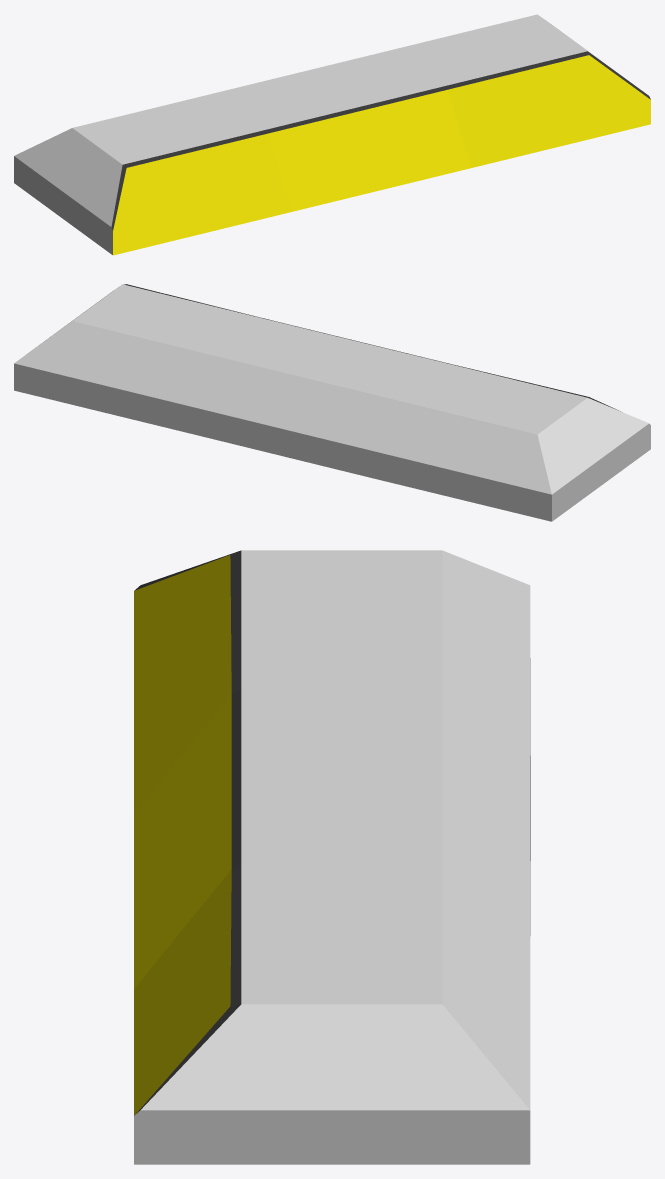
Rendered from Reacteur.fbx.
3 views of the same model, one above another, from view 1: azimuth 30°, elevation 25°; view 2: azimuth 150°, elevation 25°; view 3: azimuth 270°, elevation 25° (orthographic). The views are drawn at different scales.
Visible parts, largest first — view 1: Accelerateur; view 2: Accelerateur; view 3: Accelerateur.
Part boxes in pixels (<box>): Accelerateur: <box>14,14,650,255</box>; Accelerateur: <box>14,284,650,521</box>; Accelerateur: <box>134,550,530,1164</box>.
Bounding box in the file's own units: 60 × 19.18 × 6.64.
